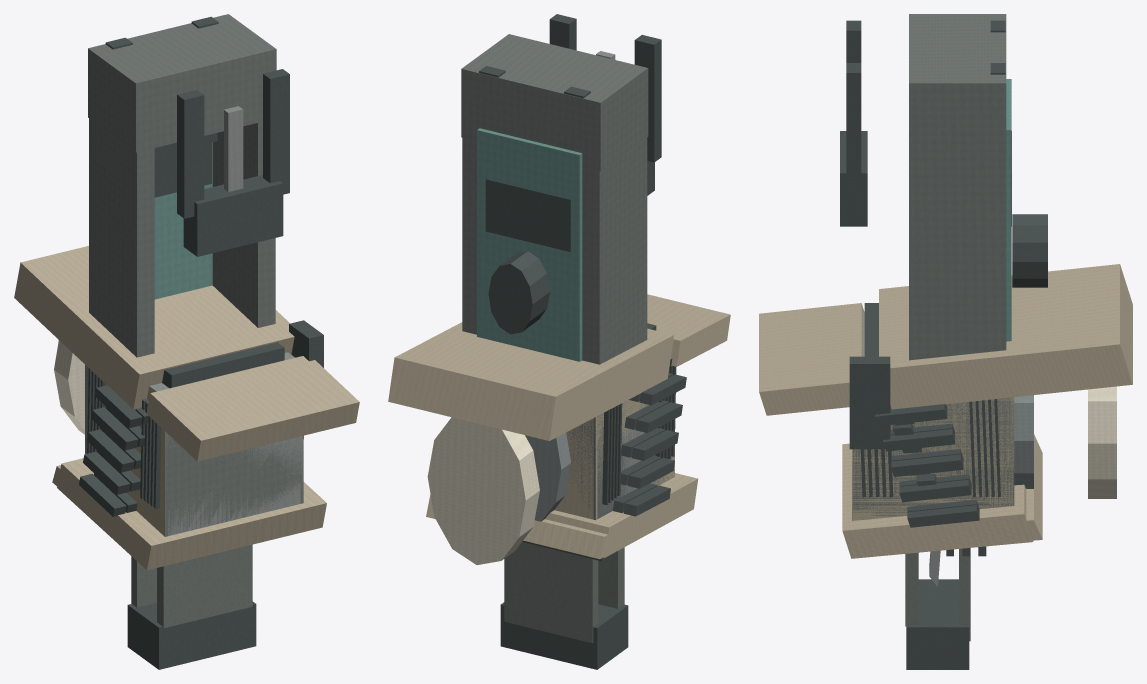
Rendered from weapon_m17.glb.
The picture shows the model from 3 angles, left to right: view 1: azimuth 30°, elevation 25°; view 2: azimuth 150°, elevation 25°; view 3: azimuth 270°, elevation 25°; orthographic projection. The views are drawn at different scales.
Parts seen in each view (by area): view 1: weapon_m17__L1_mount_optic__pistol_dot, weapon_m17__L0_mount_optic__pistol_dot, weapon_m17__L0_body, weapon_m17__L1_pistolgrip__m17_grip_slim, weapon_m17__L1_body, weapon_m17__L0_pistolgrip__m17_grip_slim, weapon_m17__L1_pistolgrip__m17_grip, weapon_m17__L0_pistolgrip__m17_grip, weapon_m17__L1_magazine__m17_17, weapon_m17__L0_magazine__m17_17, weapon_m17__L0_action, weapon_m17__L1_action (+4 smaller); view 2: weapon_m17__L0_mount_optic__pistol_dot, weapon_m17__L1_mount_optic__pistol_dot, weapon_m17__L0_body, weapon_m17__L1_pistolgrip__m17_grip_slim, weapon_m17__L1_body, weapon_m17__L1_light__pistol_light, weapon_m17__L0_pistolgrip__m17_grip_slim, weapon_m17__L0_pistolgrip__m17_grip, weapon_m17__L0_light__pistol_light, weapon_m17__L1_pistolgrip__m17_grip, weapon_m17__L1_action, weapon_m17__L1_magazine__m17_17 (+5 smaller); view 3: weapon_m17__L0_mount_optic__pistol_dot, weapon_m17__L1_mount_optic__pistol_dot, weapon_m17__L1_pistolgrip__m17_grip_slim, weapon_m17__L0_body, weapon_m17__L0_pistolgrip__m17_grip_slim, weapon_m17__L1_body, weapon_m17__L1_pistolgrip__m17_grip, weapon_m17__L0_pistolgrip__m17_grip, weapon_m17__L1_mount__m17_mount, weapon_m17__L0_magazine__m17_17, weapon_m17__L0_light__pistol_light, weapon_m17__L1_action (+6 smaller).
Boxes of the visible parts, <box> form: weapon_m17__L1_mount_optic__pistol_dot: <box>88,14,303,536</box>; weapon_m17__L0_mount_optic__pistol_dot: <box>89,16,272,530</box>; weapon_m17__L0_body: <box>85,17,321,665</box>; weapon_m17__L1_pistolgrip__m17_grip_slim: <box>14,246,359,516</box>; weapon_m17__L1_body: <box>105,16,323,669</box>; weapon_m17__L0_pistolgrip__m17_grip_slim: <box>15,260,356,509</box>; weapon_m17__L1_pistolgrip__m17_grip: <box>33,246,347,512</box>; weapon_m17__L0_pistolgrip__m17_grip: <box>36,247,345,510</box>; weapon_m17__L1_magazine__m17_17: <box>57,385,326,570</box>; weapon_m17__L0_magazine__m17_17: <box>59,419,322,567</box>; weapon_m17__L0_action: <box>87,345,282,536</box>; weapon_m17__L1_action: <box>85,342,303,509</box>; weapon_m17__L0_mount_optic__pistol_dot: <box>463,36,646,363</box>; weapon_m17__L1_mount_optic__pistol_dot: <box>461,34,648,364</box>; weapon_m17__L0_body: <box>482,15,661,665</box>; weapon_m17__L1_pistolgrip__m17_grip_slim: <box>388,295,730,516</box>; weapon_m17__L1_body: <box>479,14,674,669</box>; weapon_m17__L1_light__pistol_light: <box>427,417,673,564</box>; weapon_m17__L0_pistolgrip__m17_grip_slim: <box>391,295,729,513</box>; weapon_m17__L0_pistolgrip__m17_grip: <box>402,314,681,519</box>; weapon_m17__L0_light__pistol_light: <box>430,419,593,560</box>; weapon_m17__L1_pistolgrip__m17_grip: <box>400,294,717,512</box>; weapon_m17__L1_action: <box>595,323,676,512</box>; weapon_m17__L1_magazine__m17_17: <box>545,473,698,557</box>; weapon_m17__L0_mount_optic__pistol_dot: <box>857,15,1007,455</box>; weapon_m17__L1_mount_optic__pistol_dot: <box>909,14,1011,360</box>; weapon_m17__L1_pistolgrip__m17_grip_slim: <box>759,264,1132,527</box>; weapon_m17__L0_body: <box>840,22,1046,666</box>; weapon_m17__L0_pistolgrip__m17_grip_slim: <box>761,267,1130,523</box>; weapon_m17__L1_body: <box>840,20,1047,669</box>; weapon_m17__L1_pistolgrip__m17_grip: <box>759,292,1132,513</box>; weapon_m17__L0_pistolgrip__m17_grip: <box>788,272,1128,510</box>; weapon_m17__L1_mount__m17_mount: <box>852,398,1014,520</box>; weapon_m17__L0_magazine__m17_17: <box>845,397,1030,550</box>; weapon_m17__L0_light__pistol_light: <box>1014,387,1114,498</box>; weapon_m17__L1_action: <box>852,303,1014,497</box>.
Bounding box in the file's own units: 1.33 × 4.08 × 2.31.
Materials: 2 (2 with a texture image).
